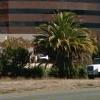Tree: (18, 10, 100, 74)
